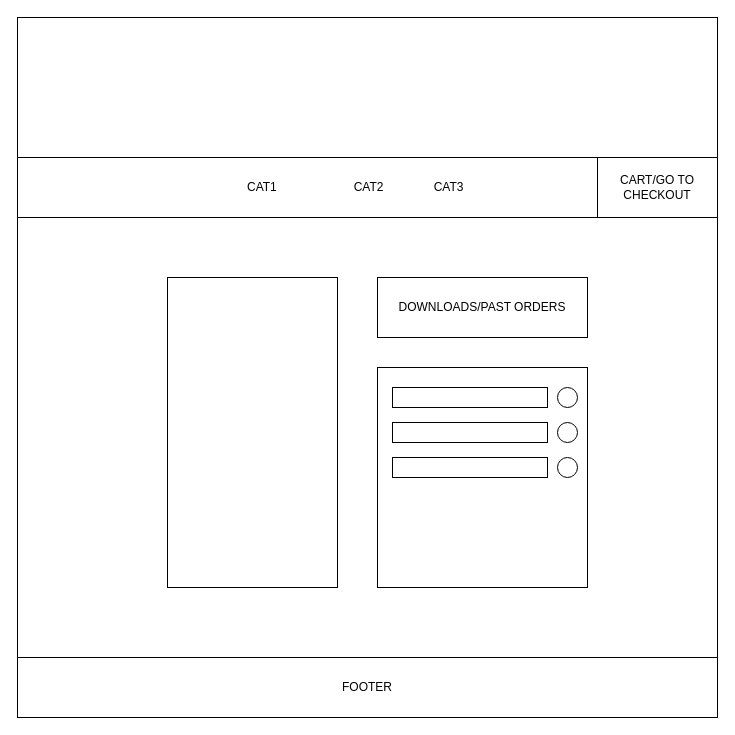
Some shapes in this 735 by 735 pixel diagram are drawn without their labels. Here are the shapes that lost their labels. From the top down, the box of each, then its label:
(16, 16, 718, 158): SITE TITLE
(166, 276, 338, 588): PROFILE INFO
